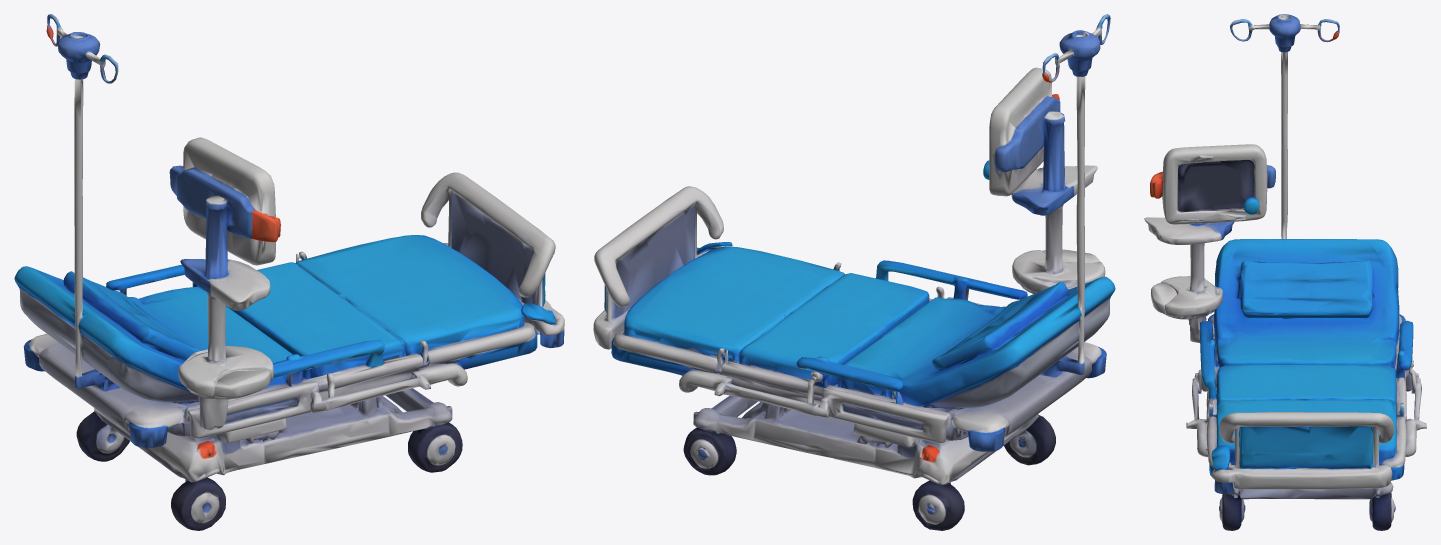
File: tripo_h31_modern_hospital_ward_bed_kit.glb
3 renders of one model, left to right at view 1: azimuth 30°, elevation 25°; view 2: azimuth 150°, elevation 25°; view 3: azimuth 270°, elevation 25°, orthographic. The views are drawn at different scales.
Parts seen in each view (by area): view 1: tripo_node_eeeef630-02a8-4233-82f2-233c1542a40e; view 2: tripo_node_eeeef630-02a8-4233-82f2-233c1542a40e; view 3: tripo_node_eeeef630-02a8-4233-82f2-233c1542a40e.
Boxes of the visible parts, box(x1,y1,x2,y2) form: tripo_node_eeeef630-02a8-4233-82f2-233c1542a40e: box(14, 14, 564, 530); tripo_node_eeeef630-02a8-4233-82f2-233c1542a40e: box(593, 14, 1115, 530); tripo_node_eeeef630-02a8-4233-82f2-233c1542a40e: box(1144, 14, 1426, 530).
Size of the model in its own units: 0.979 by 0.9749 by 0.6472.
Materials: 1 (1 with a texture image).
